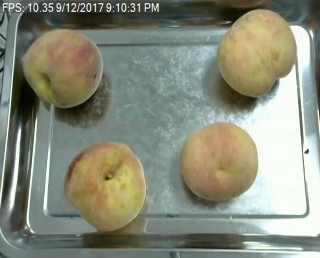Peach: (64, 141, 147, 232), (217, 8, 298, 97), (22, 29, 104, 110), (180, 122, 259, 201)
